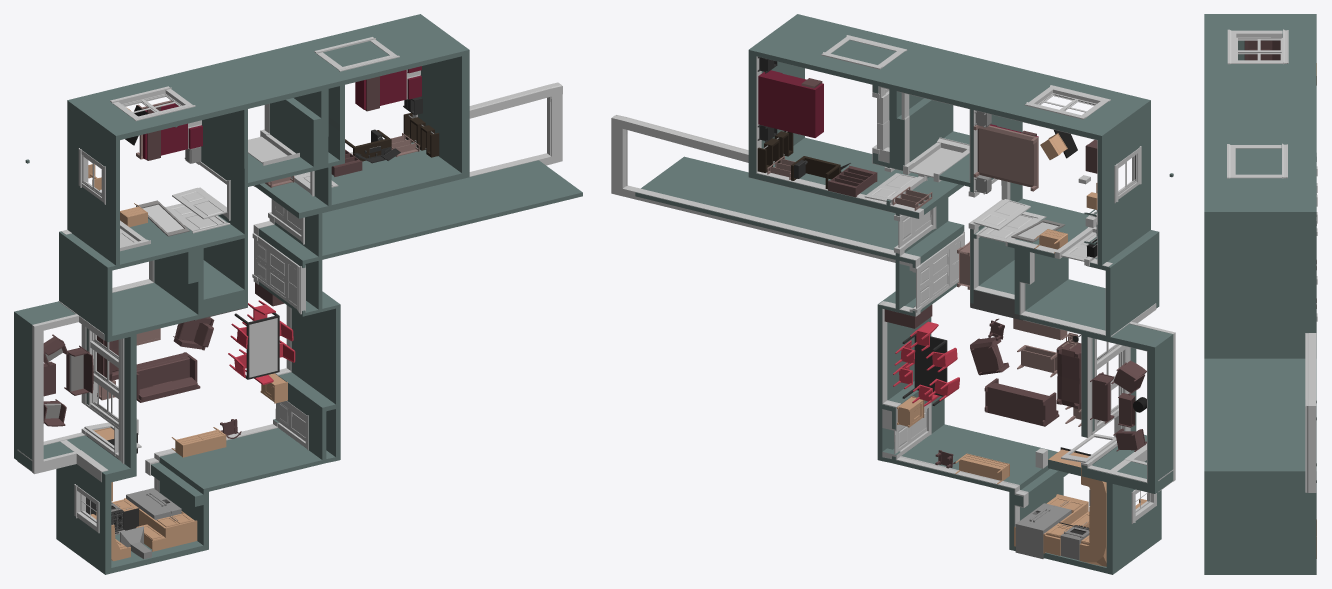
Rendered from 28Newbern_v1.fbx.
3 renders of one model, left to right at view 1: azimuth 30°, elevation 25°; view 2: azimuth 150°, elevation 25°; view 3: azimuth 270°, elevation 25°, orthographic. The views are drawn at different scales.
Parts seen in each view (by area): view 1: Mesh06_001; view 2: Mesh06_001; view 3: Mesh06_001.
Boxes of the visible parts, left/top/right/bottom form: Mesh06_001: left=14, top=14, right=582, bottom=574; Mesh06_001: left=611, top=14, right=1175, bottom=574; Mesh06_001: left=1204, top=14, right=1317, bottom=574.
Size of the model in its own units: 759 by 583 by 119.
